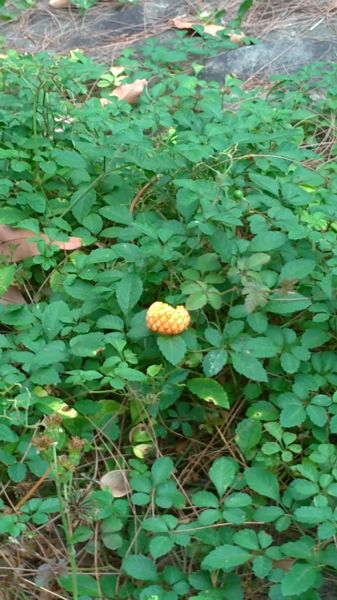eggs: (135, 295, 195, 345)
